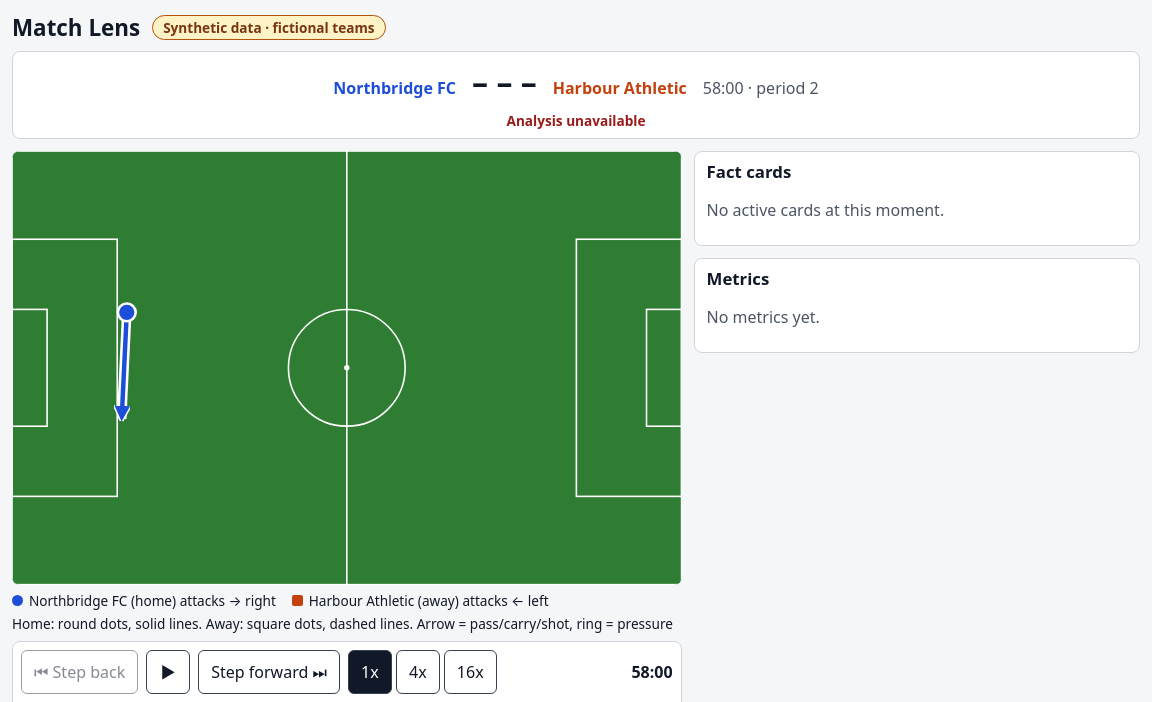
Test case: analysis failure › keeps the pitch and controls and says analysis is unavailable
This screenshot has width=1152, height=702.
Expected: the text "Analysis unavailable" is shown, [506,111,645,130]
Expected: the picture named "Northbridge FC pass" is shown, [12,151,682,585]
Click the button "Step forward ⏭" at (269, 672), box [198,650,340,694]
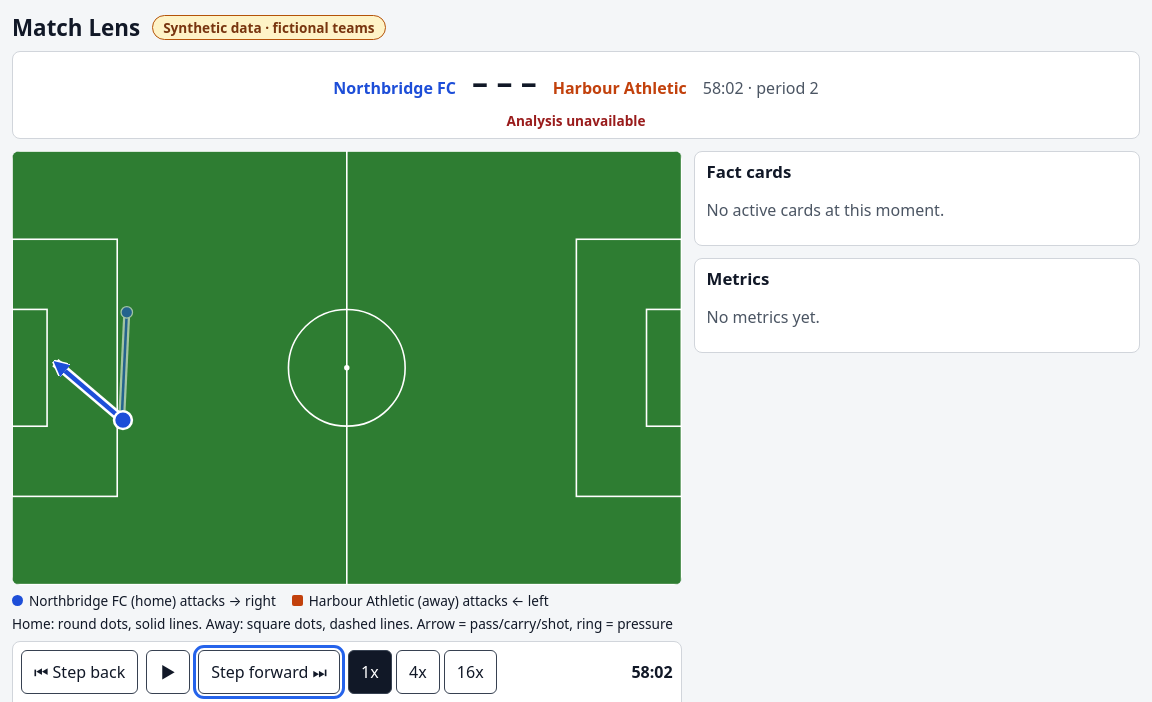
Now the picture named "Northbridge FC pass, Idris Vane to Tomas Reed" is shown, box [12,151,682,585]
